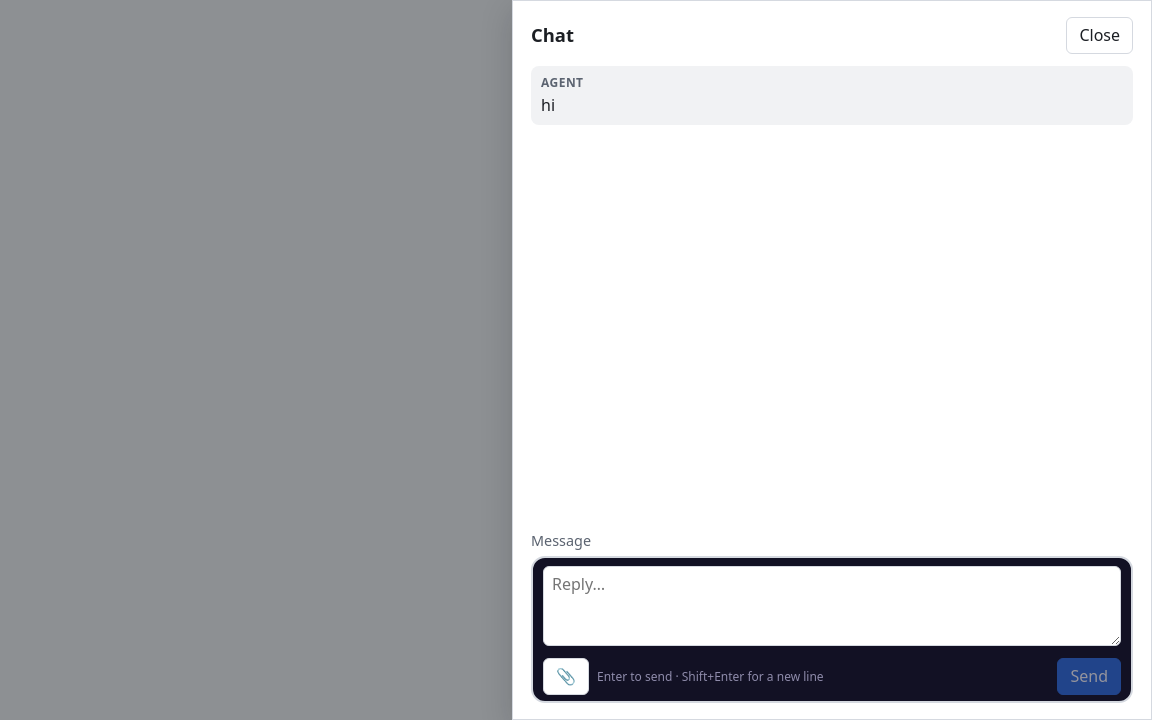
Test: sending a message appends the new transcript entries
Expected: the text "hi" is shown, x1=541 y1=94 x2=555 y2=116
In the text box labelled "Message": (832, 606) x1=543 y1=566 x2=1121 y2=646, type "next message"
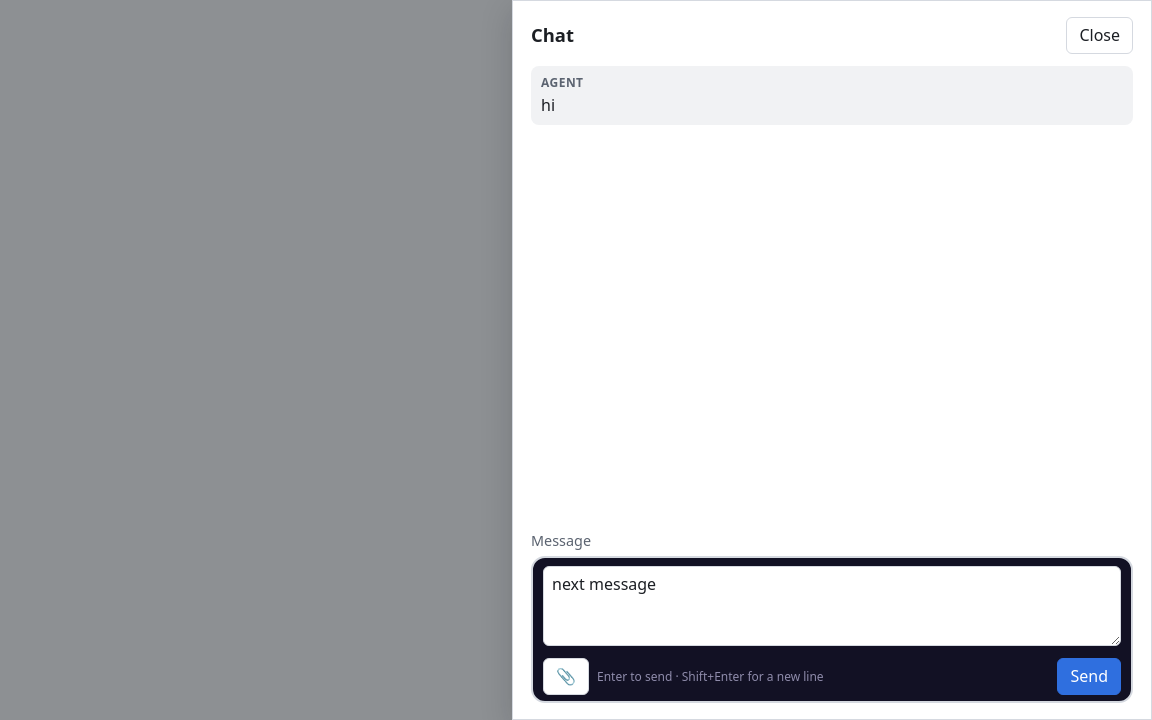
Click the button "Send": (1089, 676) x1=1058 y1=658 x2=1121 y2=695
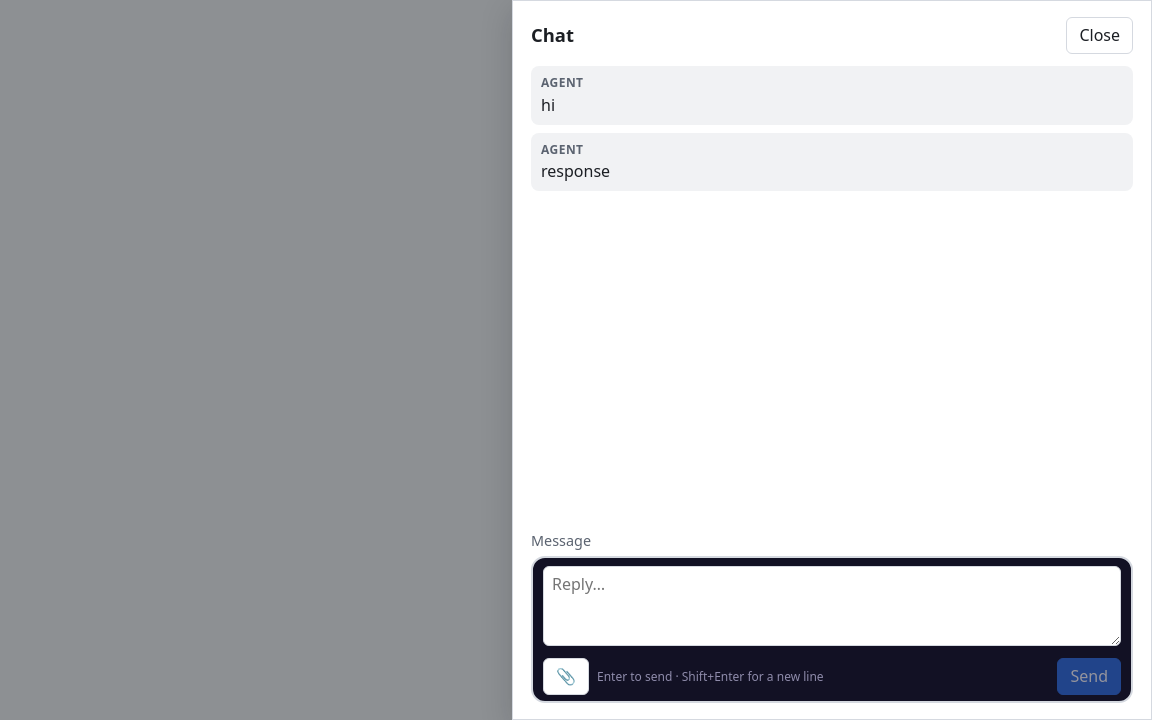
Result: the text "response" is shown at x1=541 y1=160 x2=610 y2=182
Result: the text "hi" is shown once at x1=541 y1=94 x2=555 y2=116
